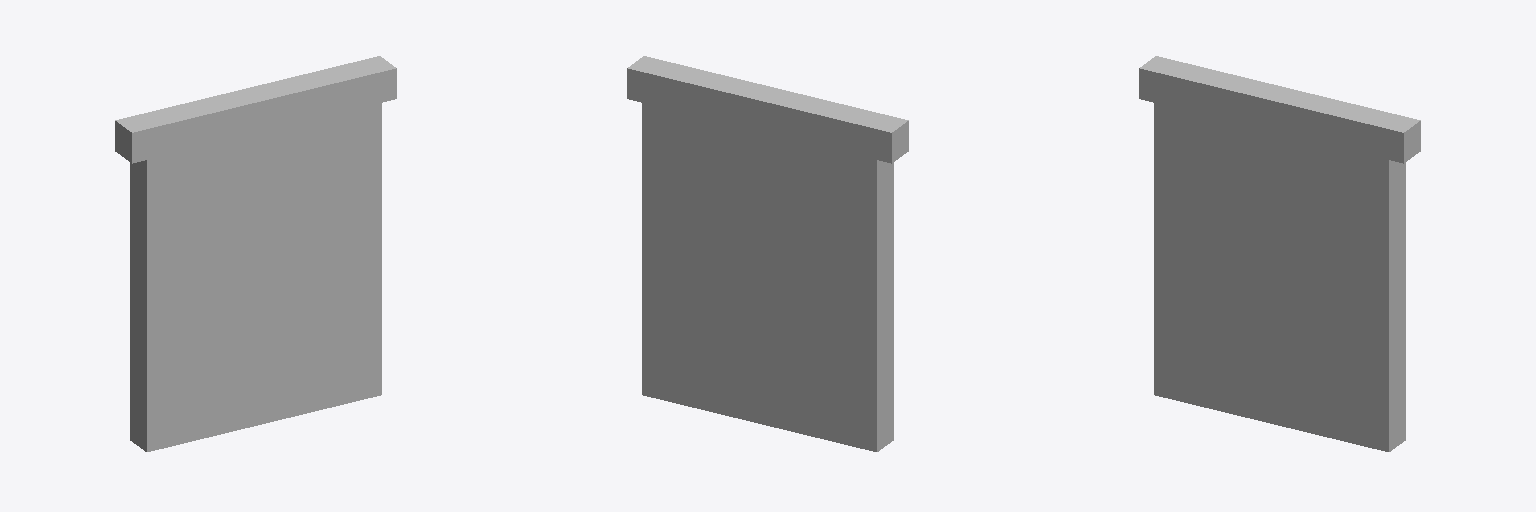
File: porte_fermée.obj
3 views of the same model, side by side, from view 1: azimuth 30°, elevation 25°; view 2: azimuth 150°, elevation 25°; view 3: azimuth 330°, elevation 25° (orthographic).
Parts seen in each view (by area): view 1: pCube3, pCube5, pCube4, pCube6; view 2: pCube3, pCube5, pCube4, pCube6; view 3: pCube3, pCube6, pCube4, pCube5.
Boxes of the visible parts, x1,y1,x2,y2 form: pCube3: [176, 98, 352, 444]; pCube5: [130, 138, 175, 451]; pCube4: [115, 56, 396, 163]; pCube6: [353, 87, 381, 401]; pCube3: [671, 95, 847, 444]; pCube5: [848, 138, 893, 451]; pCube4: [627, 56, 908, 163]; pCube6: [642, 87, 670, 401]; pCube3: [1183, 96, 1359, 444]; pCube6: [1360, 138, 1405, 451]; pCube4: [1139, 56, 1420, 163]; pCube5: [1154, 87, 1182, 401].
Bounding box in the file's own units: 9 × 10.5 × 1.